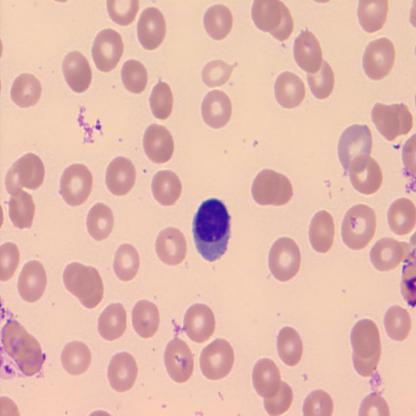NRC: (192, 196, 233, 264)
